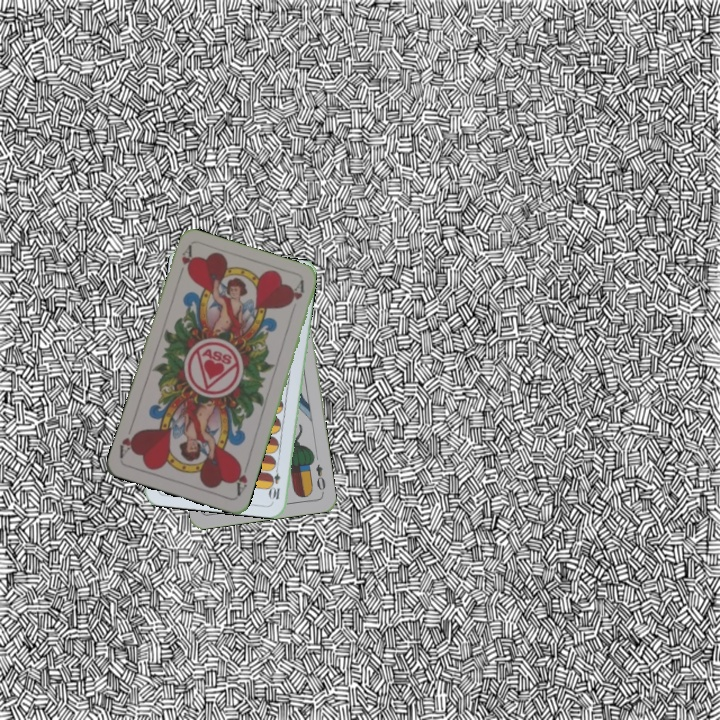E10: (267, 461, 283, 502)
EO: (312, 460, 328, 496)
HA: (230, 459, 251, 499), (174, 242, 195, 282)
